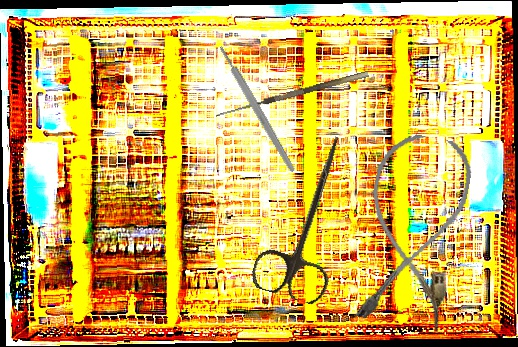Cannula: (349, 128, 477, 333)
Hook Surgical: (214, 70, 372, 126)
Iris Scissors: (248, 124, 370, 308)
Scalpel Handle: (217, 44, 297, 174)
